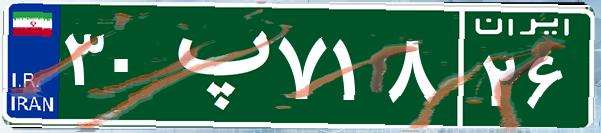0: (110, 28, 158, 105)
1: (330, 28, 385, 110)
2: (475, 38, 525, 113)
3: (57, 26, 110, 107)
6: (525, 38, 570, 115)
7: (273, 28, 330, 110)
8: (385, 28, 445, 110)
پ: (158, 15, 273, 115)
